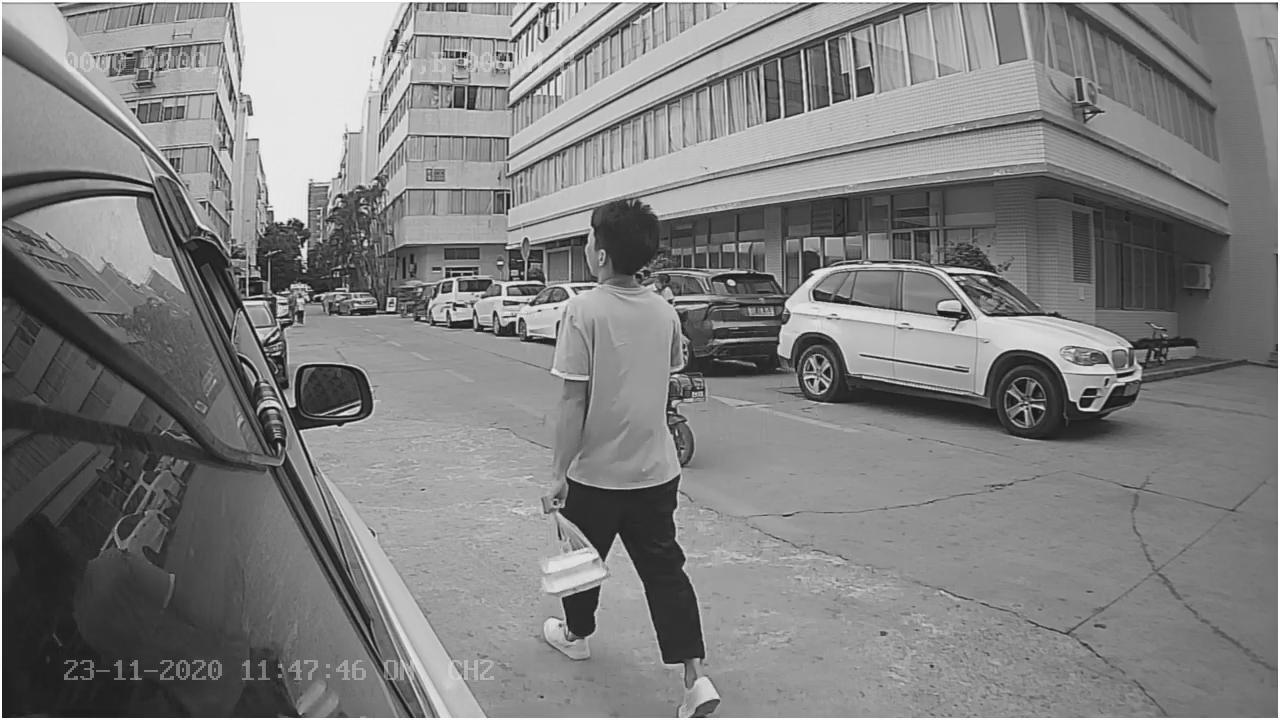person: (532, 193, 722, 716)
